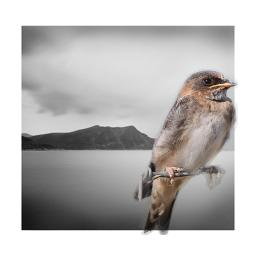Swallow: (132, 68, 238, 235)
